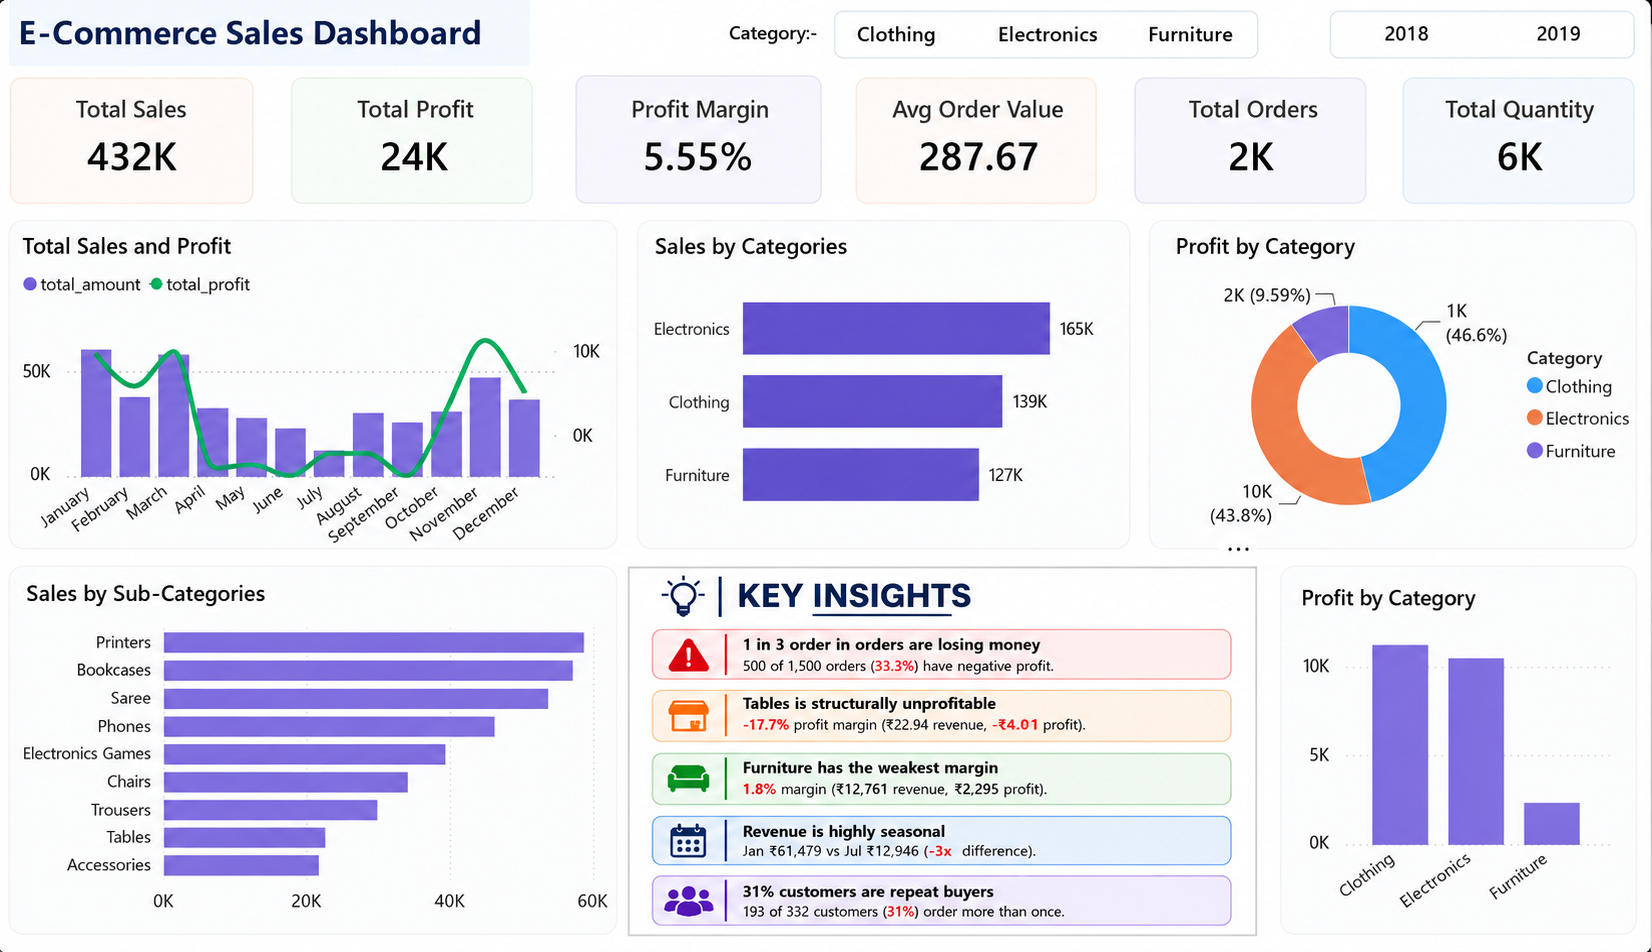

The page's visual inventory and layout, read from the dashboard file:
{"tool":"powerbi","page":{"name":"Page 1","canvas":[1280,720],"ordinal":0},"visuals":[{"type":"cardVisual","fields":{"Data":["measure.total_amount","measure.total_profit","measure.profit_margin","measure.avg_order_value","measure.total_orders","measure.total_quantity"]},"box":[0,34.8,1280.2,141.4],"z":0},{"type":"lineClusteredColumnComboChart","title":"Total Sales and Profit","fields":{"Category":["main.Order Month.Variation.Date Hierarchy.Month"],"Y":["measure.total_amount"],"Y2":["measure.total_profit"]},"box":[41.3,175.9,463.8,248.6],"z":1000},{"type":"clusteredBarChart","title":"Sales by Categories","fields":{"Category":["main.Category"],"Y":["measure.total_amount"]},"box":[526.8,176.3,359.8,225.5],"z":2000},{"type":"donutChart","title":"Profit by Category","fields":{"Y":["measure.total_profit"],"Category":["main.Category"]},"box":[917.4,176.3,351.6,233.7],"z":3000},{"type":"clusteredBarChart","title":"Sales by Sub-Categories","fields":{"Y":["measure.total_amount"],"Category":["main.Sub-Category"]},"box":[44.1,435.6,459.2,259.3],"z":4000},{"type":"columnChart","title":"Profit by Category","fields":{"Y":["measure.total_profit"],"Category":["main.Category"]},"box":[1011.8,435.4,246.9,259.5],"z":5000},{"type":"image","box":[515.6,424.3,467.4,270.6],"z":6000},{"type":"advancedSlicerVisual","fields":{"Values":["Date.year"]},"box":[1046.8,0,228.4,41.8],"z":13000},{"type":"textbox","box":[41,0,341.3,49.2],"z":14000},{"type":"advancedSlicerVisual","fields":{"Values":["main.Category"]},"box":[654.4,0,327.2,49.1],"z":15000},{"type":"textbox","box":[522.9,6.8,131.2,30.1],"z":16000}]}

Visuals, with their boxes in screenshot pixels (x1, y1, x2, y2), scaled from the page's 1280x720 canvas onto the 1652x952 screenshot:
cardVisual - measure.total_amount x measure.total_profit: 0:46:1651:233
"Total Sales and Profit" lineClusteredColumnComboChart: 53:233:652:561
"Sales by Categories" clusteredBarChart: 680:233:1144:531
"Profit by Category" donutChart: 1184:233:1638:542
"Sales by Sub-Categories" clusteredBarChart: 57:576:650:919
"Profit by Category" columnChart: 1306:576:1625:919
image: 665:561:1269:919
advancedSlicerVisual - Date.year: 1351:0:1646:55
textbox: 53:0:493:65
advancedSlicerVisual - main.Category: 845:0:1267:65
textbox: 675:9:844:49
